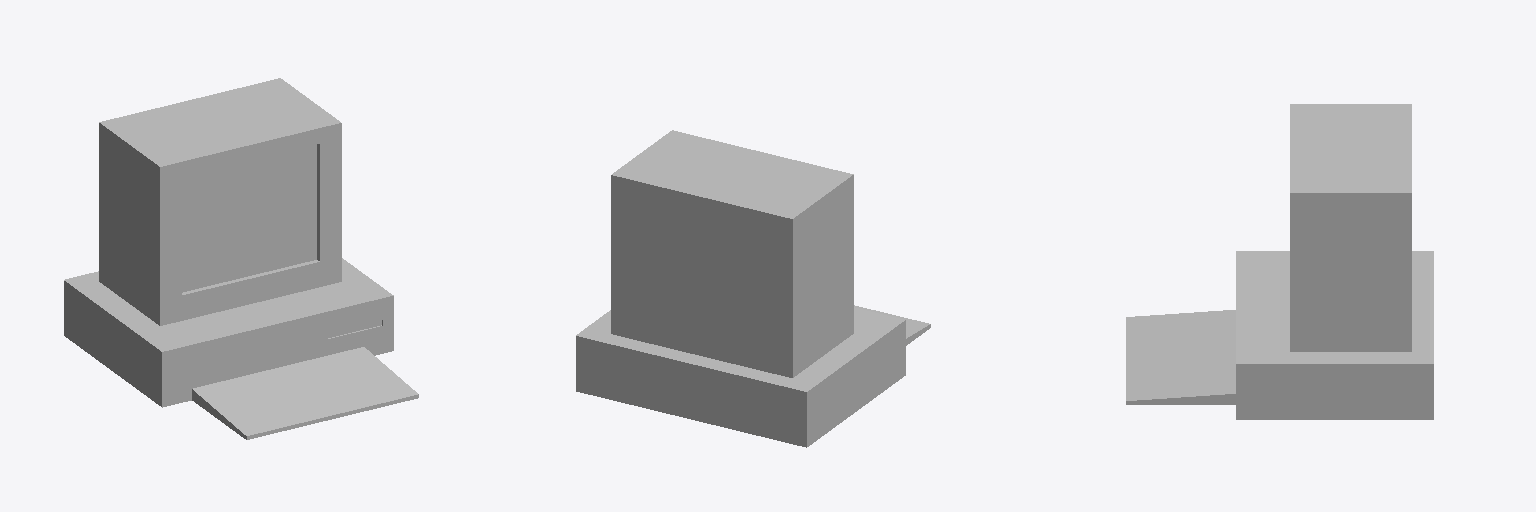
The model's file is host.obj.
The picture shows the model from 3 angles: view 1: azimuth 30°, elevation 25°; view 2: azimuth 150°, elevation 25°; view 3: azimuth 270°, elevation 25°; orthographic projection.
Parts seen in each view (by area): view 1: 立方体.46; view 2: 立方体.46; view 3: 立方体.46.
Boxes of the visible parts, <box> form: 立方体.46: <box>64,78,418,439</box>; 立方体.46: <box>576,130,930,447</box>; 立方体.46: <box>1126,104,1433,419</box>.
Size of the model in its own units: 8.41 by 7.46 by 9.66.